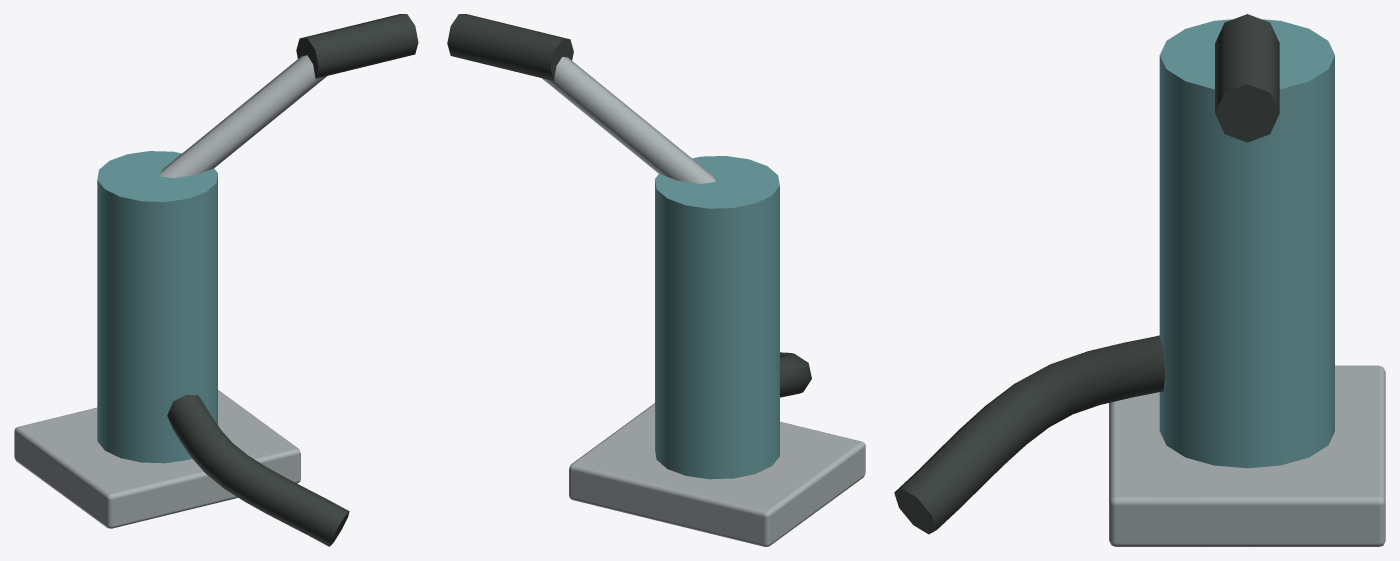
File: flooded-and-coastal-survival-manual-bilge-pump-efd7f1c8__20065.glb
3 renders of one model, left to right at view 1: azimuth 30°, elevation 25°; view 2: azimuth 150°, elevation 25°; view 3: azimuth 270°, elevation 25°, orthographic. The views are drawn at different scales.
Visible parts, largest first — view 1: manual-bilge-pump; view 2: manual-bilge-pump; view 3: manual-bilge-pump.
Boxes of the visible parts, x1,y1,x2,y2 form: manual-bilge-pump: (14, 14, 418, 546); manual-bilge-pump: (447, 14, 865, 546); manual-bilge-pump: (894, 14, 1385, 546).
Bounding box in the file's own units: 0.625 × 0.6934 × 0.5328.
